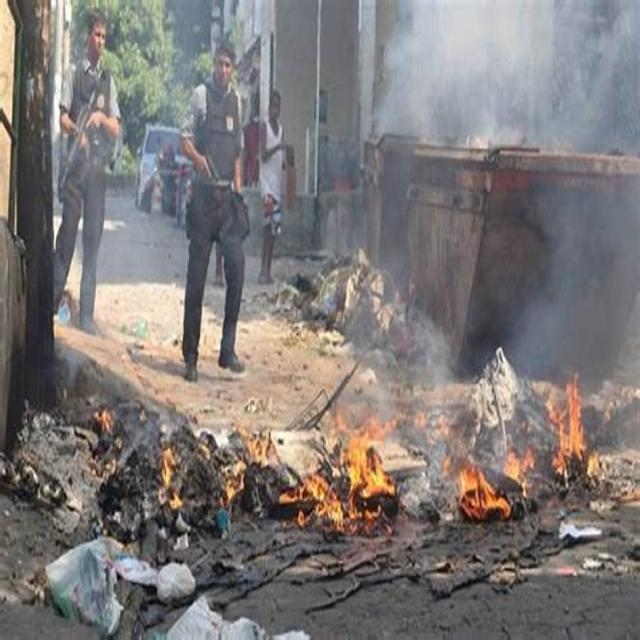Fire: (296, 418, 392, 532), (548, 382, 588, 485), (454, 462, 512, 524)
Smoke: (390, 6, 632, 140)
